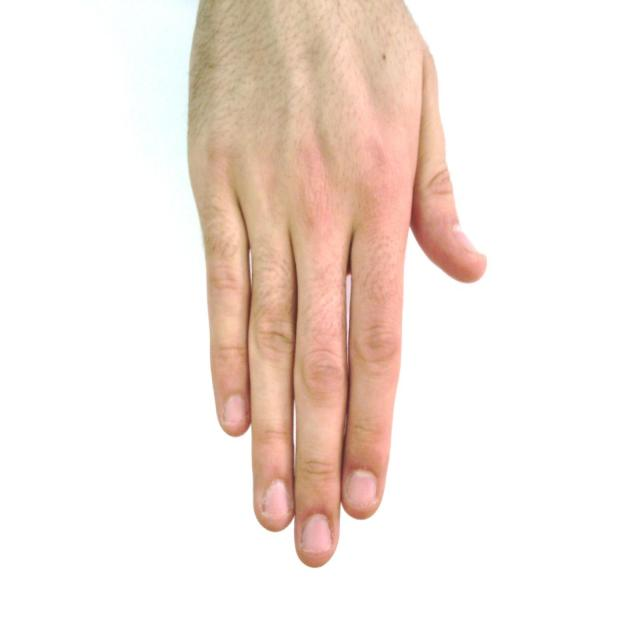others: (168, 1, 496, 572)
